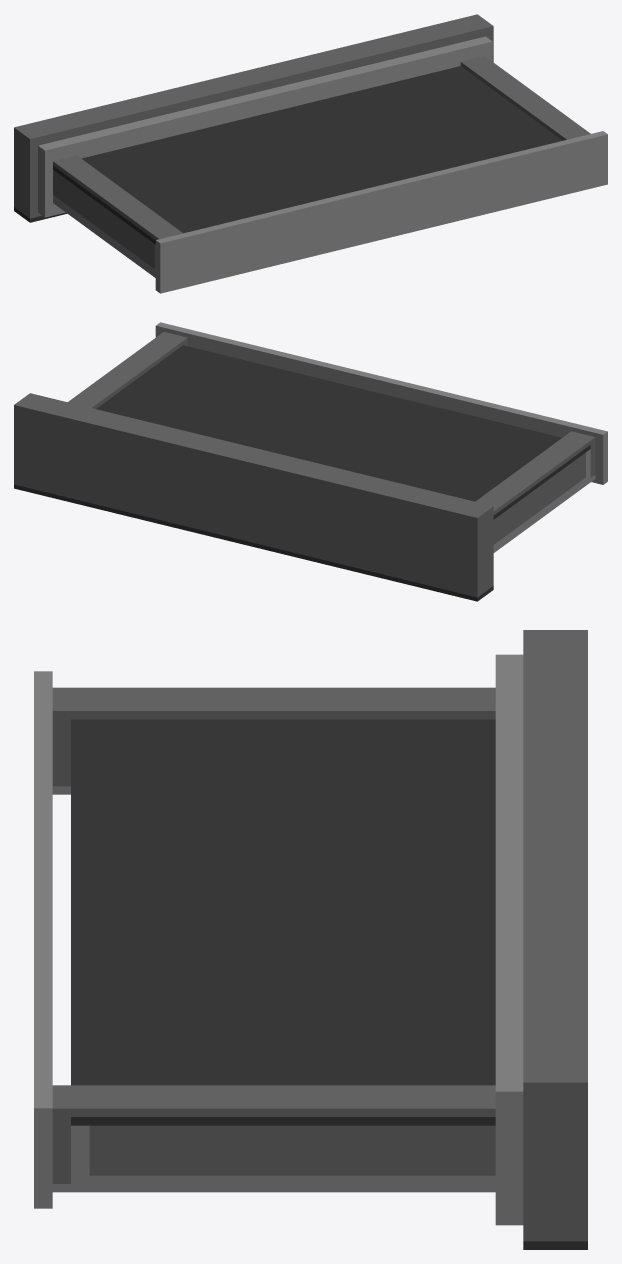
The model's file is notice_board_1.obj.
3 views of the same model, one above another, from view 1: azimuth 30°, elevation 25°; view 2: azimuth 150°, elevation 25°; view 3: azimuth 270°, elevation 25° (orthographic). The views are drawn at different scales.
Size of the model in its own units: 11.6 by 2 by 6.
Materials: 1 (1 with a texture image).
